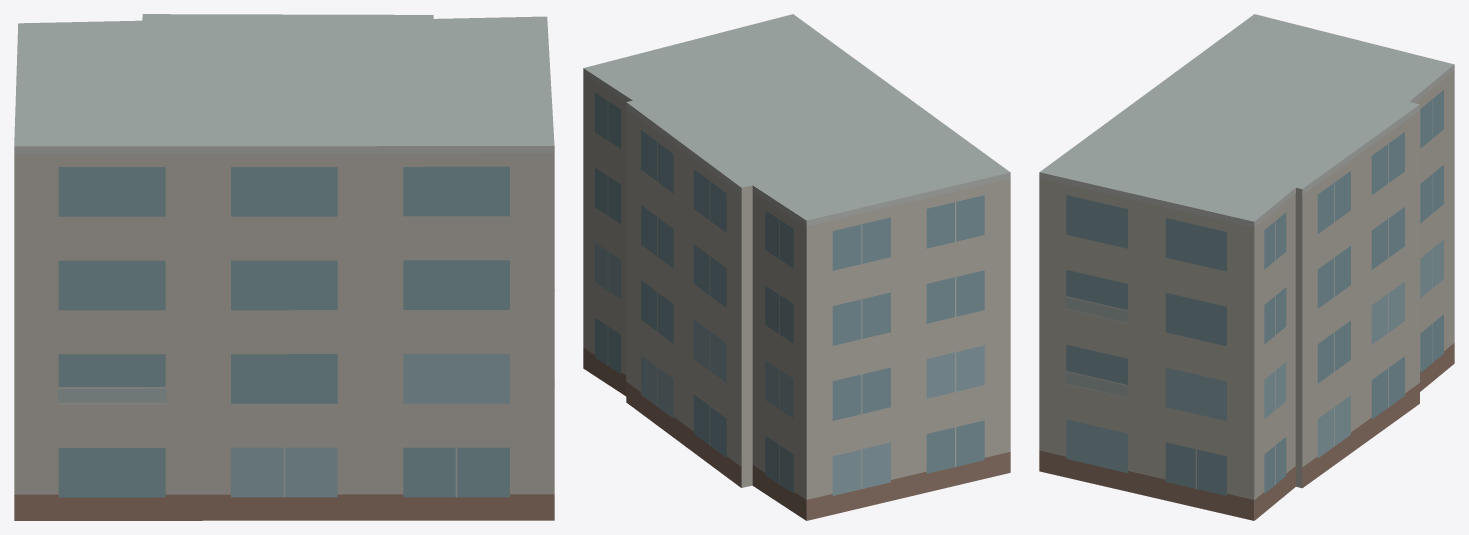
File: survey-upis-32992584.glb
The picture shows the model from 3 angles, left to right: view 1: azimuth 30°, elevation 25°; view 2: azimuth 150°, elevation 25°; view 3: azimuth 270°, elevation 25°; orthographic projection. The views are drawn at different scales.
Parts seen in each view (by area): view 1: survey-upis-32992584.tmp; view 2: survey-upis-32992584.tmp; view 3: survey-upis-32992584.tmp.
Boxes of the visible parts, x1,y1,x2,y2 form: survey-upis-32992584.tmp: (14,14,554,520); survey-upis-32992584.tmp: (583,14,1010,520); survey-upis-32992584.tmp: (1039,14,1454,520).
Size of the model in its own units: 18.26 by 12.25 by 15.42.
